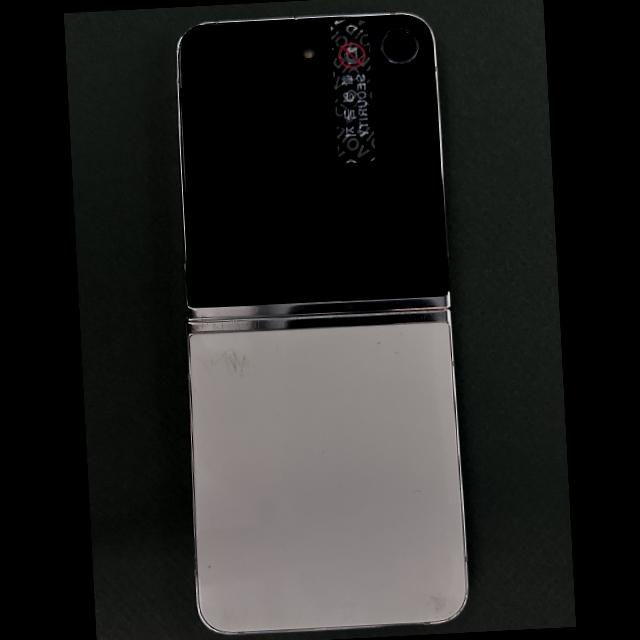lens: (381, 28, 417, 65)
phone: (176, 13, 469, 635)
sticker: (331, 19, 377, 164)
